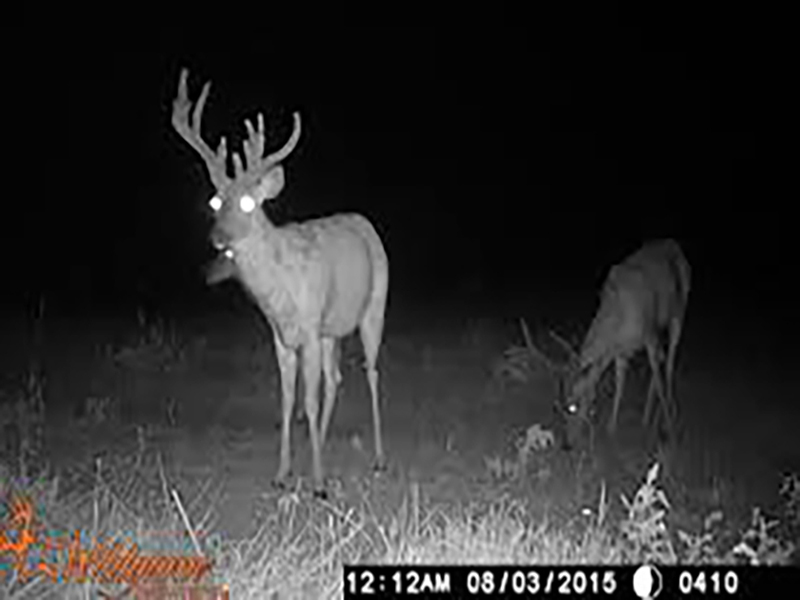cervo: (164, 70, 403, 508), (519, 236, 704, 465)
